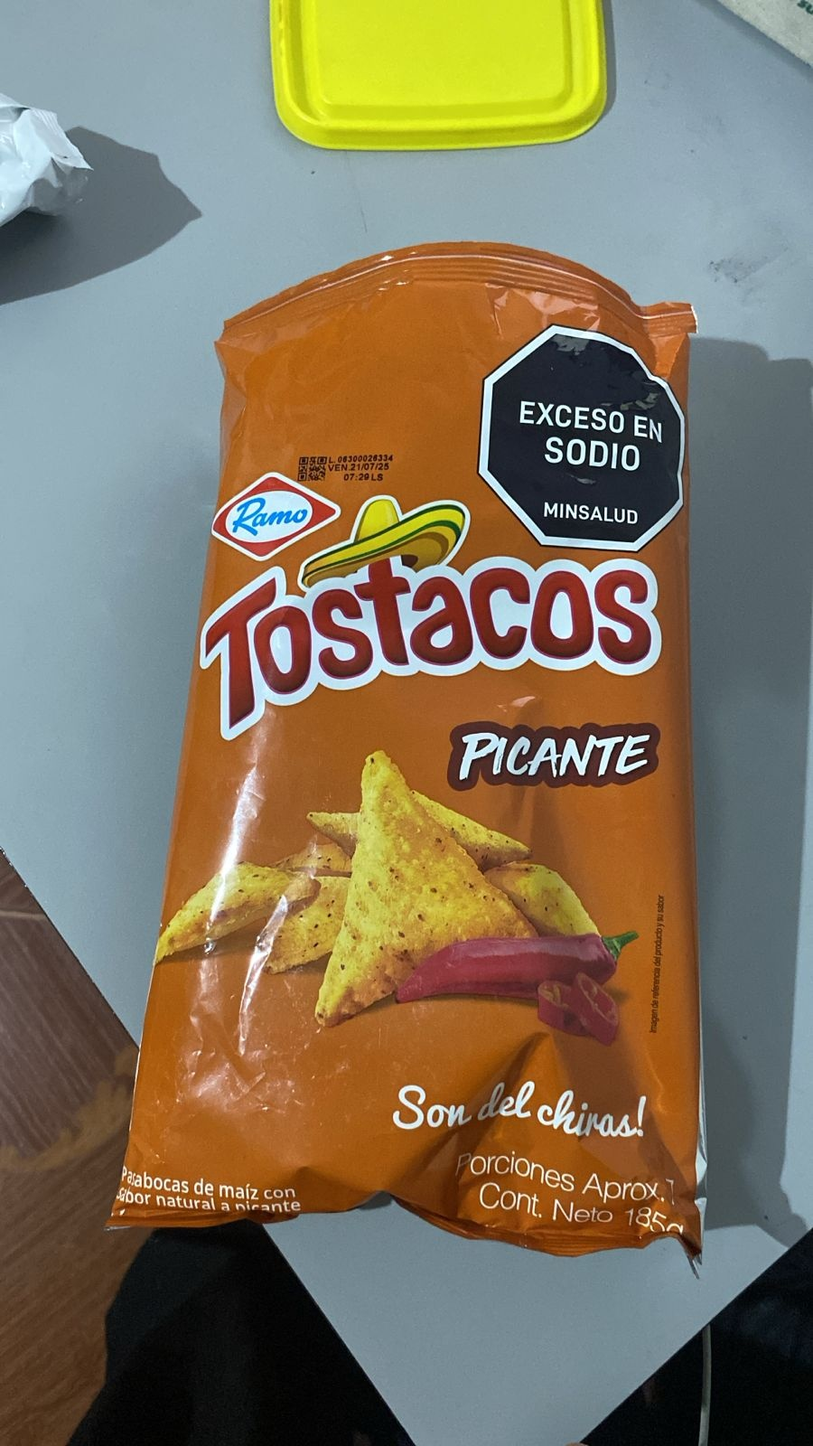Ordinario: (105, 238, 697, 1248)
